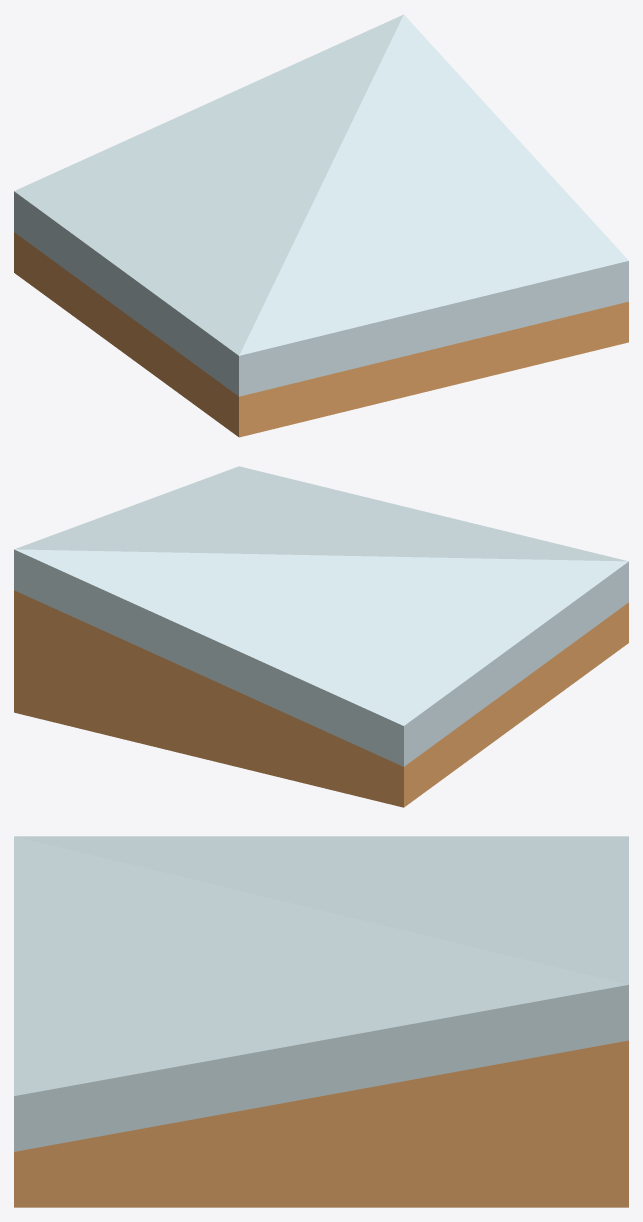
The model's file is snowTileCornerOuter.fbx.
3 renders of one model, top to bottom at view 1: azimuth 30°, elevation 25°; view 2: azimuth 150°, elevation 25°; view 3: azimuth 270°, elevation 25°, orthographic. The views are drawn at different scales.
Parts seen in each view (by area): view 1: snow_tile_cornerOuter; view 2: snow_tile_cornerOuter; view 3: snow_tile_cornerOuter.
Part boxes in pixels (x1=…): snow_tile_cornerOuter: x1=14, y1=14, x2=628, y2=437; snow_tile_cornerOuter: x1=14, y1=466, x2=628, y2=807; snow_tile_cornerOuter: x1=14, y1=836, x2=628, y2=1207.
Bounding box in the file's own units: 39.37 × 15.75 × 39.37.
